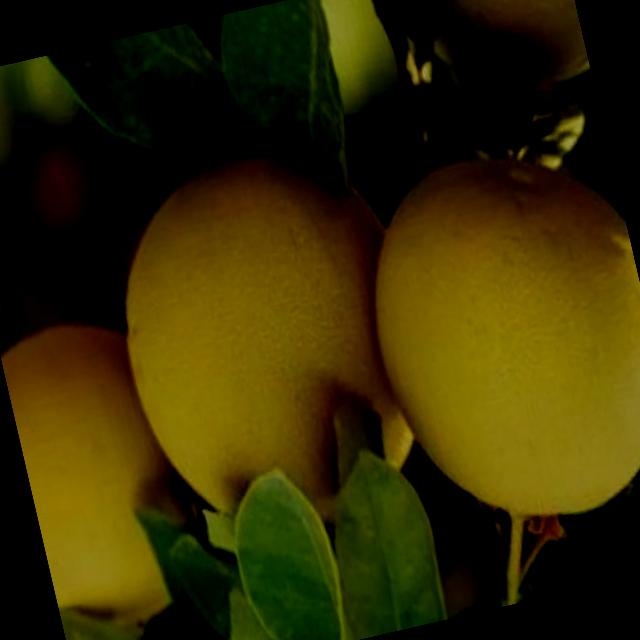Orange: (81, 104, 464, 568), (338, 126, 640, 547), (0, 286, 243, 640), (392, 0, 592, 116)
